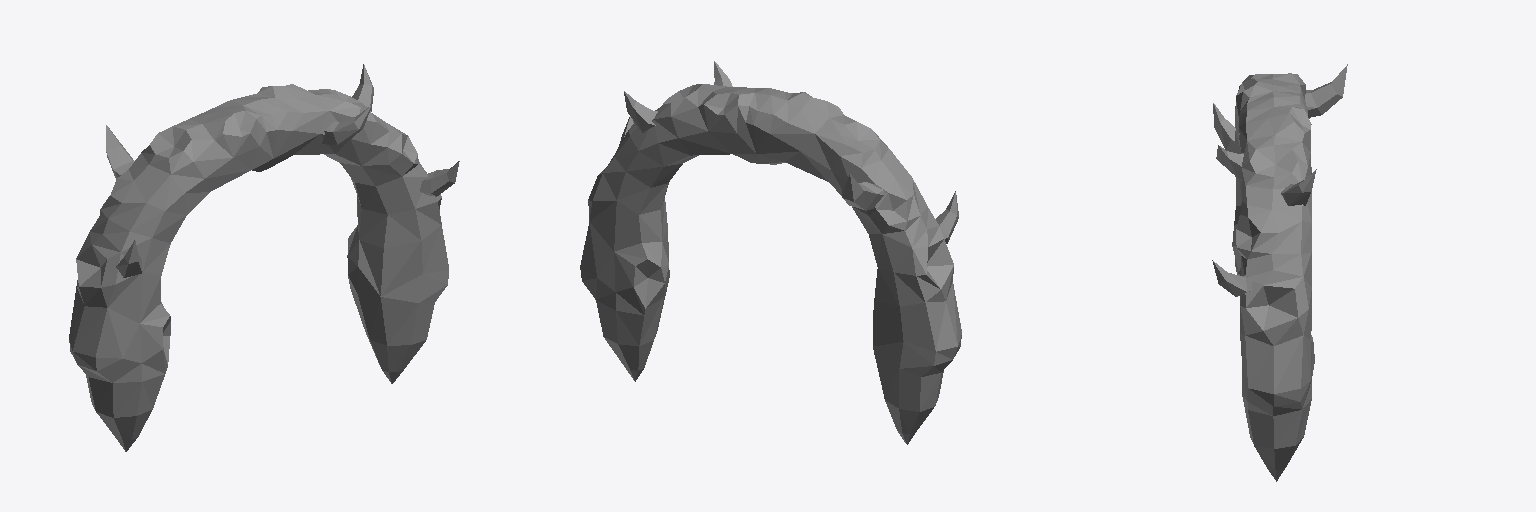
The model's file is stone_arch_lava_blue.obj.
The picture shows the model from 3 angles: view 1: azimuth 30°, elevation 25°; view 2: azimuth 150°, elevation 25°; view 3: azimuth 270°, elevation 25°; orthographic projection.
Parts seen in each view (by area): view 1: stone_arch_lava_blue; view 2: stone_arch_lava_blue; view 3: stone_arch_lava_blue.
Boxes of the visible parts, x1=… form: stone_arch_lava_blue: x1=69, y1=64, x2=459, y2=451; stone_arch_lava_blue: x1=580, y1=61, x2=961, y2=444; stone_arch_lava_blue: x1=1212, y1=64, x2=1347, y2=481.
Size of the model in its own units: 703 by 576 by 221.